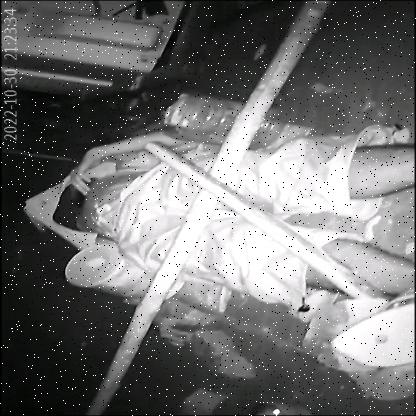hand: (32, 132, 158, 196), (140, 299, 196, 347)
